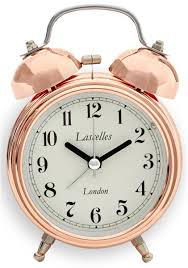alarm_clock: (7, 8, 179, 261)
